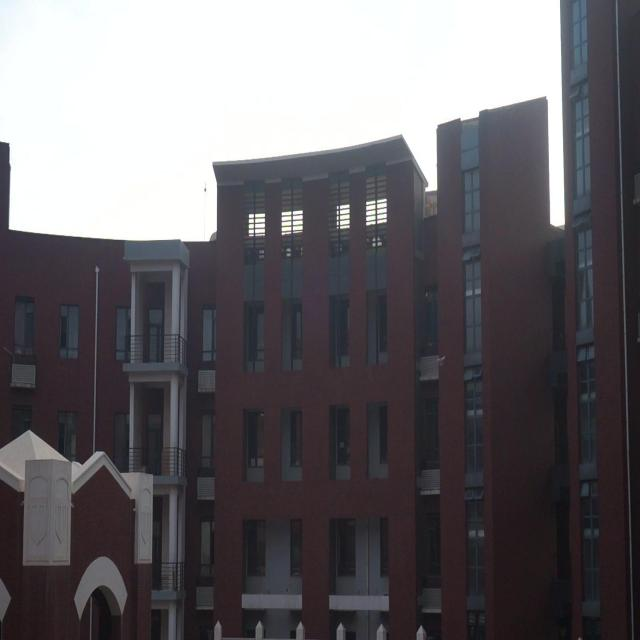drone: (436, 352, 447, 372)
